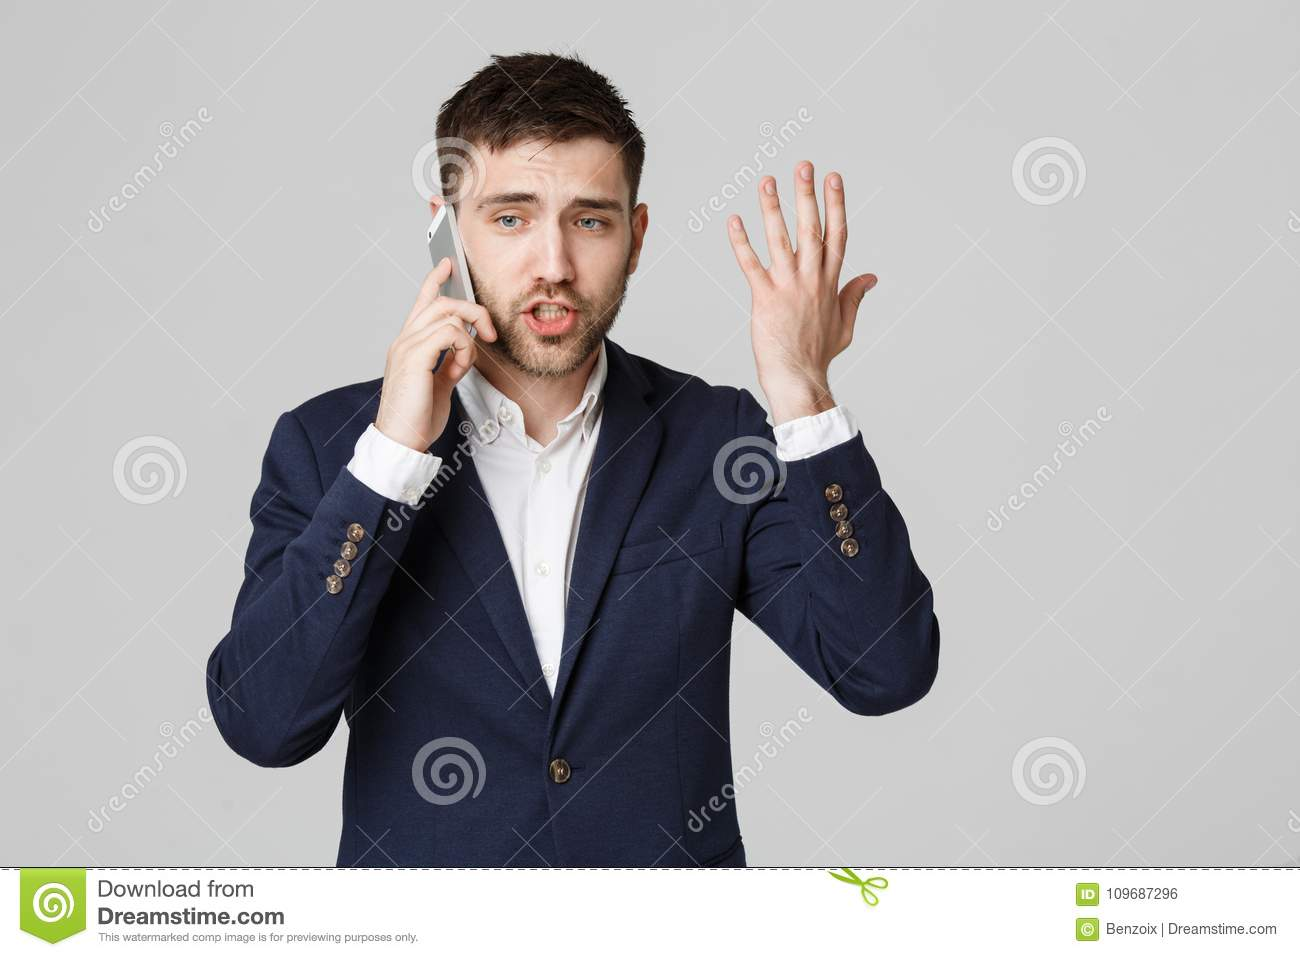phone: (425, 204, 483, 345)
talk: (381, 187, 626, 462)
